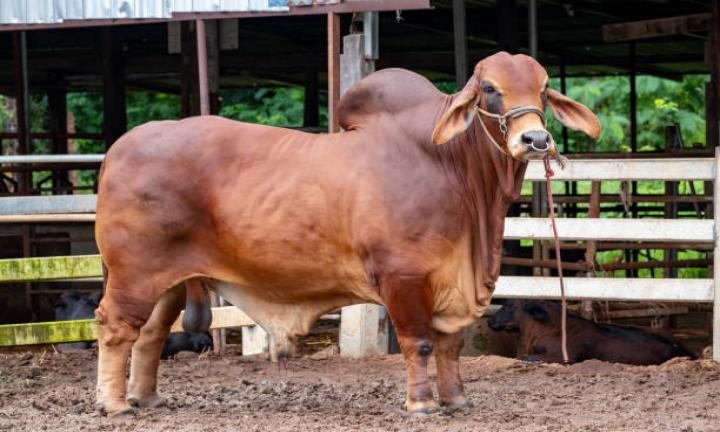Brahman: (95, 53, 600, 414)
